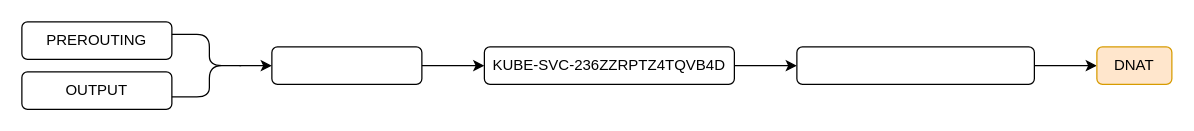
Image size: 1194x131. Some labels were removed from this diagram. Here are the shapes that lost their labels. From the top down, the box of each, then its label:
(271, 46, 422, 84): KUBE-SERVICES
(796, 46, 1034, 84): KUBE-SEP-VTVT2IJBDRSEPLLJ
